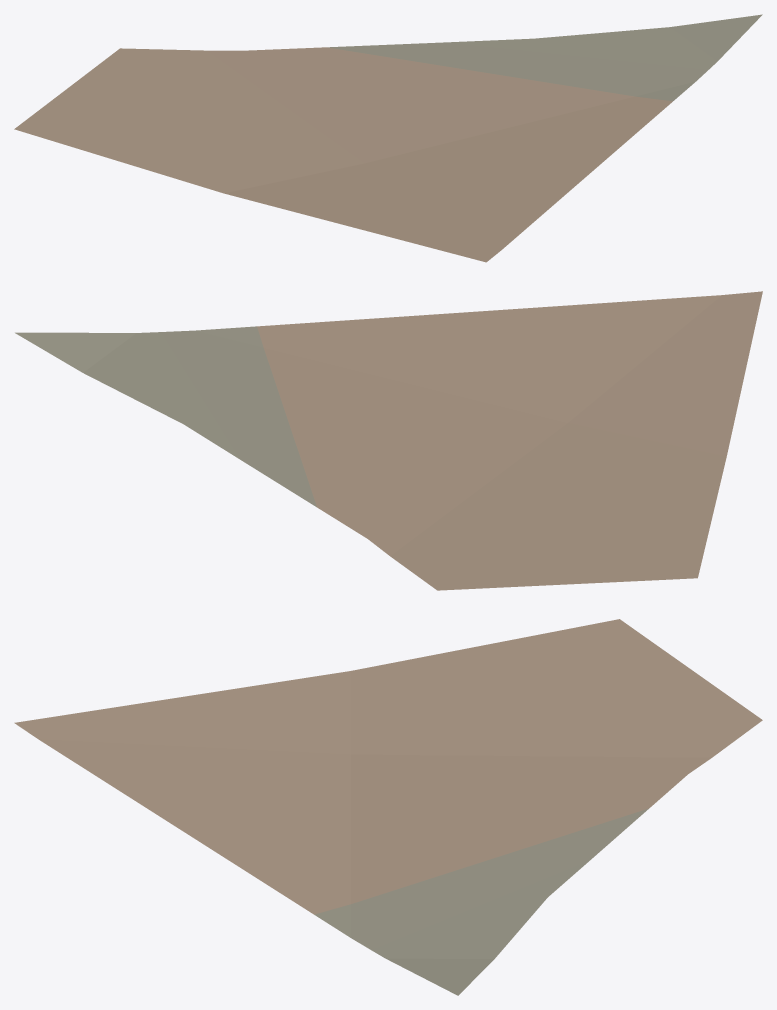
File: farm_-1_11_soil.glb
The picture shows the model from 3 angles, top to bottom: view 1: azimuth 30°, elevation 25°; view 2: azimuth 150°, elevation 25°; view 3: azimuth 270°, elevation 25°; orthographic projection. The views are drawn at different scales.
Parts seen in each view (by area): view 1: geometry_0; view 2: geometry_0; view 3: geometry_0.
Boxes of the visible parts, bbox=[...] form: geometry_0: bbox=[14, 14, 762, 262]; geometry_0: bbox=[15, 291, 762, 590]; geometry_0: bbox=[14, 619, 762, 995].
Bounding box in the file's own units: 147 × 3.74 × 123.
